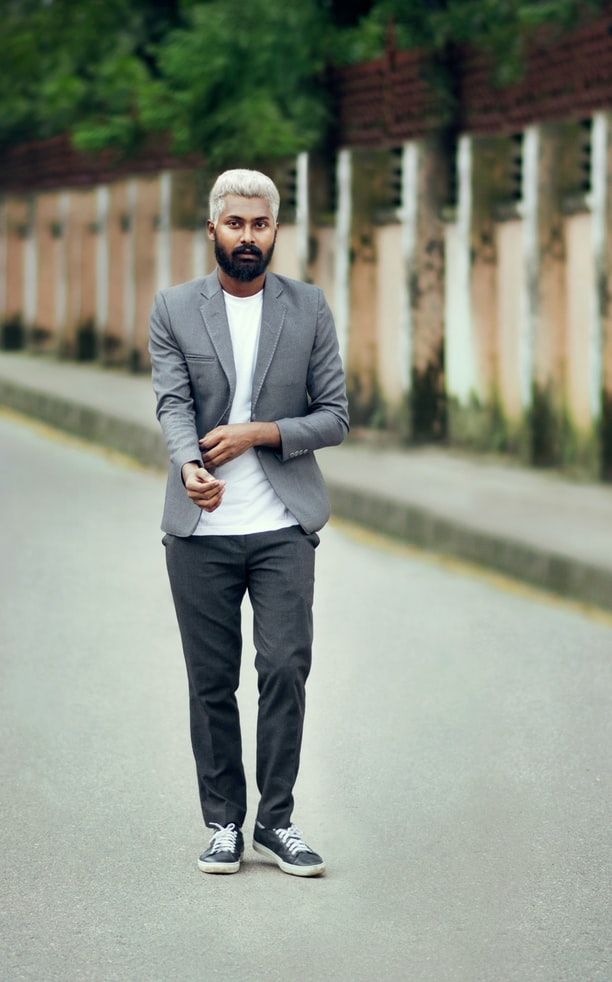beard: (211, 235, 278, 287)
